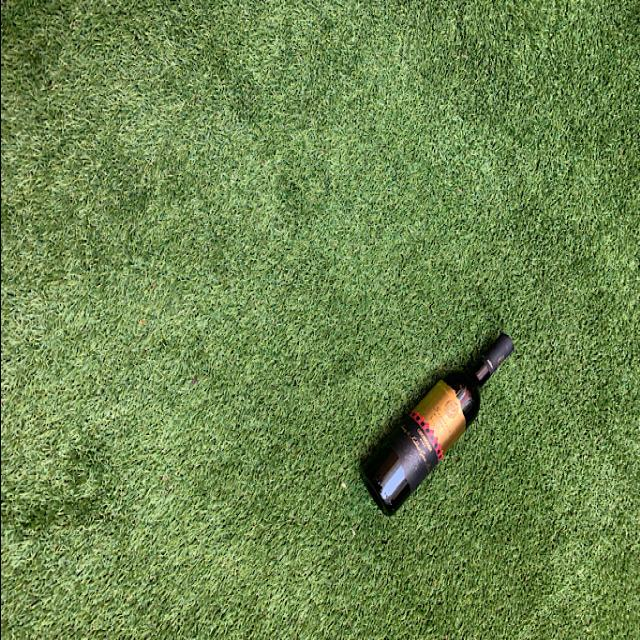Glass Bottle: (353, 324, 518, 520)
